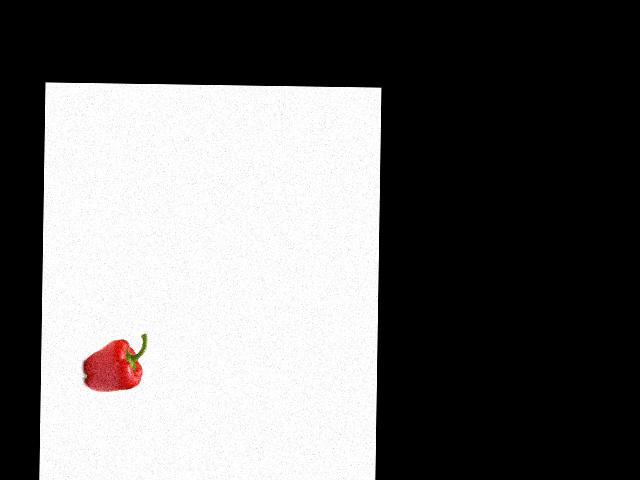bell_pepper: (78, 330, 151, 395)
